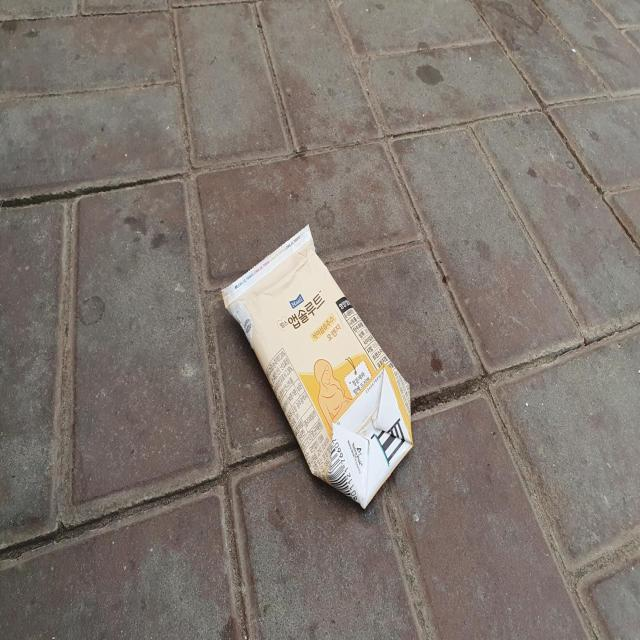paperpack: (222, 225, 413, 509)
